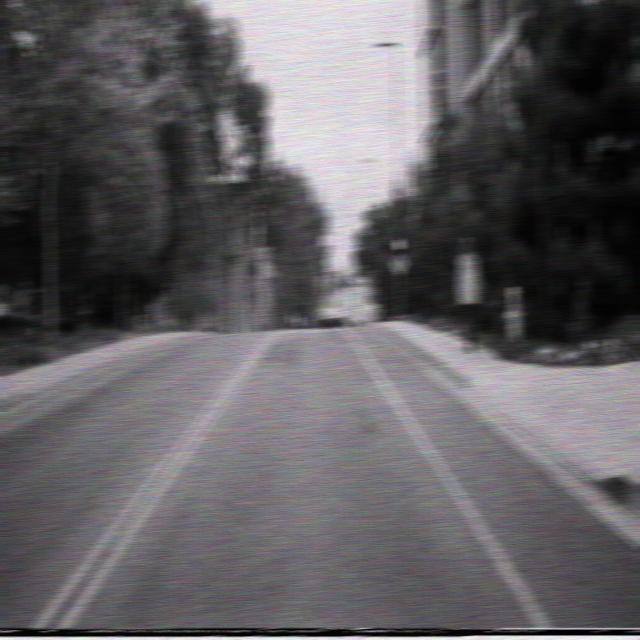pedestrianCrossing: (391, 251, 407, 277)
